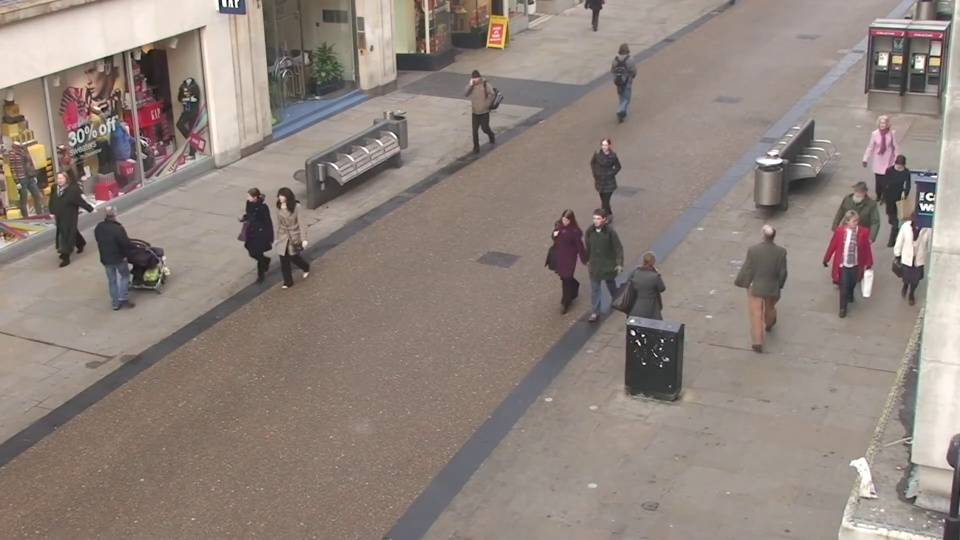pedestrian: (99, 197, 149, 311), (819, 210, 866, 331), (35, 170, 87, 278), (630, 244, 673, 374), (748, 214, 792, 337), (825, 183, 870, 297), (870, 152, 916, 260), (261, 185, 304, 298), (229, 185, 272, 297), (542, 208, 581, 330), (575, 206, 613, 326), (858, 117, 900, 215), (586, 137, 619, 239), (458, 68, 487, 151), (614, 37, 639, 112)
